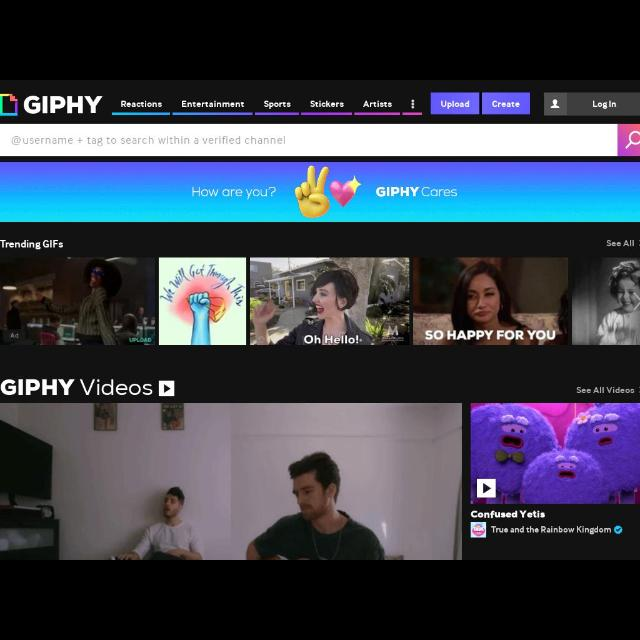icon: (624, 132, 640, 150), (158, 381, 176, 397), (550, 99, 560, 109), (614, 526, 622, 534), (412, 100, 414, 110)
image: (1, 404, 463, 558), (1, 257, 640, 345), (471, 403, 639, 503), (294, 165, 362, 218), (1, 93, 19, 117), (469, 521, 487, 537)
input: (1, 124, 639, 156)
multitab: (120, 100, 416, 110)
text: (2, 379, 152, 398), (11, 136, 286, 146), (24, 95, 104, 115), (491, 525, 612, 535), (192, 186, 276, 200), (376, 186, 458, 198), (1, 239, 64, 251), (469, 509, 546, 518), (180, 100, 243, 108), (576, 388, 636, 394), (121, 100, 163, 108), (440, 100, 470, 110), (311, 100, 344, 108), (362, 100, 392, 108), (592, 100, 616, 110), (263, 100, 291, 108), (492, 100, 520, 108)
textbutton: (567, 93, 639, 115), (430, 92, 480, 114), (482, 92, 530, 114)
